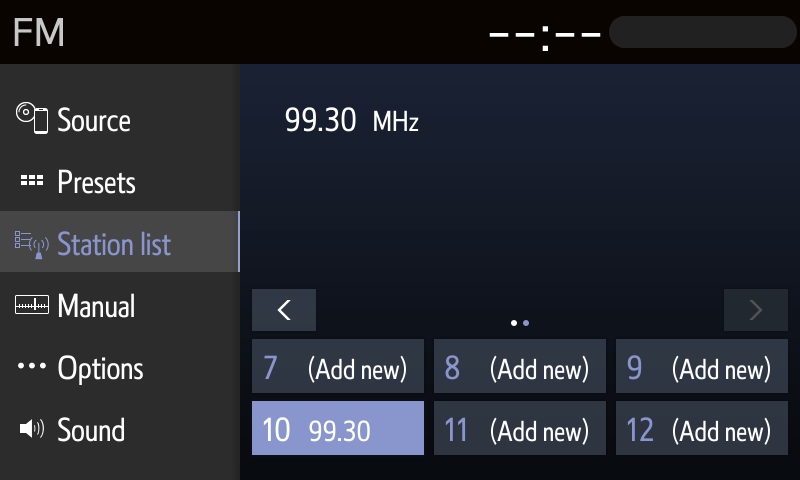touchPart: (617, 338, 788, 393), (434, 340, 607, 392), (252, 401, 423, 453), (251, 340, 424, 391), (433, 402, 605, 453), (618, 404, 788, 454), (11, 98, 152, 145), (8, 289, 148, 326), (5, 354, 153, 388), (10, 166, 138, 203), (7, 413, 133, 447), (252, 288, 315, 331)
untouchPart: (609, 13, 797, 54), (8, 225, 183, 265), (277, 100, 422, 146), (477, 17, 606, 57), (6, 14, 80, 52), (723, 289, 789, 330)
